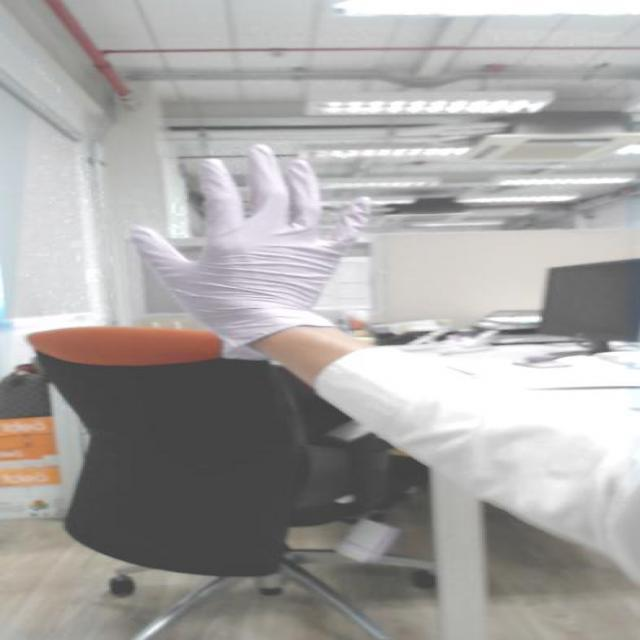with_gloves: (99, 130, 378, 314)
